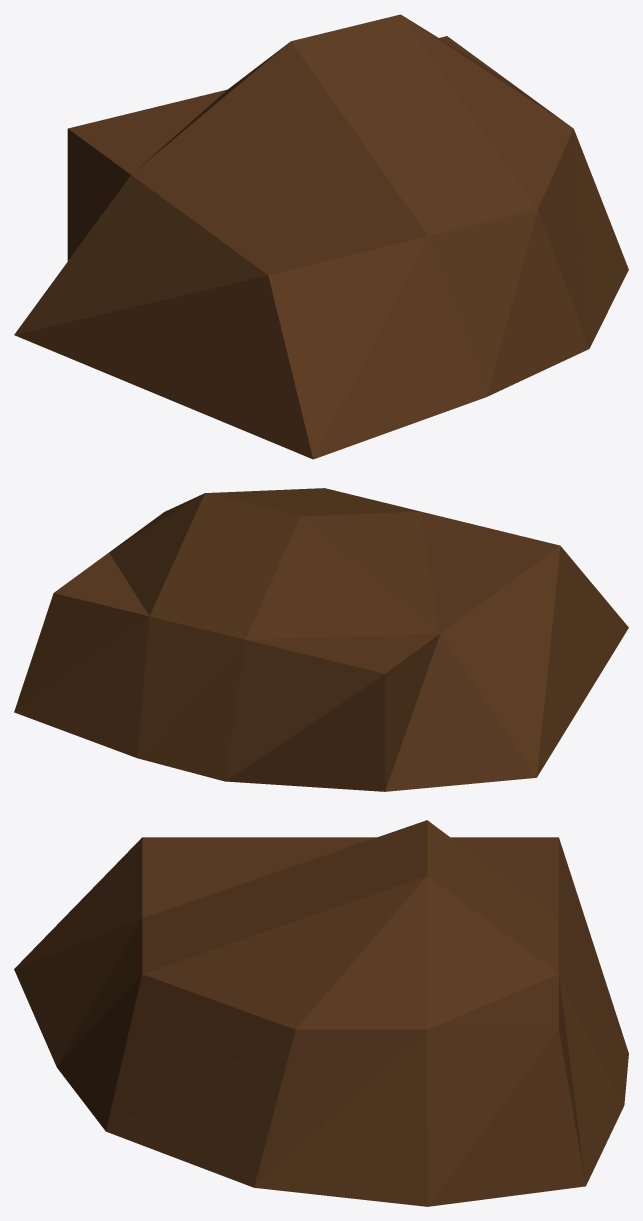
File: dirt.fbx
3 views of the same model, one above another, from view 1: azimuth 30°, elevation 25°; view 2: azimuth 150°, elevation 25°; view 3: azimuth 270°, elevation 25° (orthographic). The views are drawn at different scales.
Visible parts, largest first — view 1: Cube; view 2: Cube; view 3: Cube.
Boxes of the visible parts, bbox=[...] form: Cube: bbox=[14, 14, 628, 459]; Cube: bbox=[14, 488, 628, 791]; Cube: bbox=[14, 820, 628, 1206].
Size of the model in its own units: 516 by 200 by 467.
